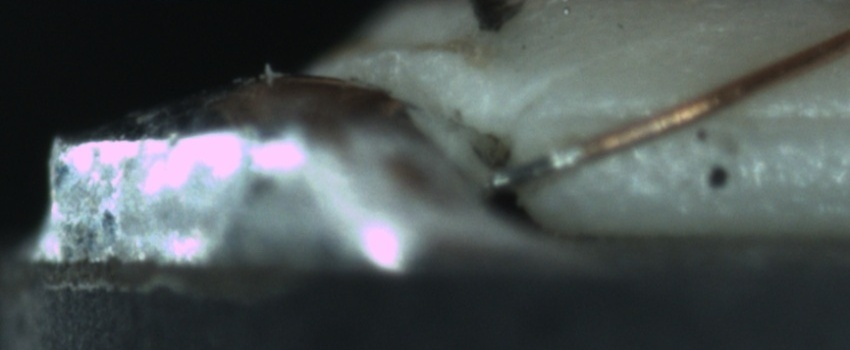DL: (610, 83, 849, 152)
TS: (492, 142, 585, 190)
